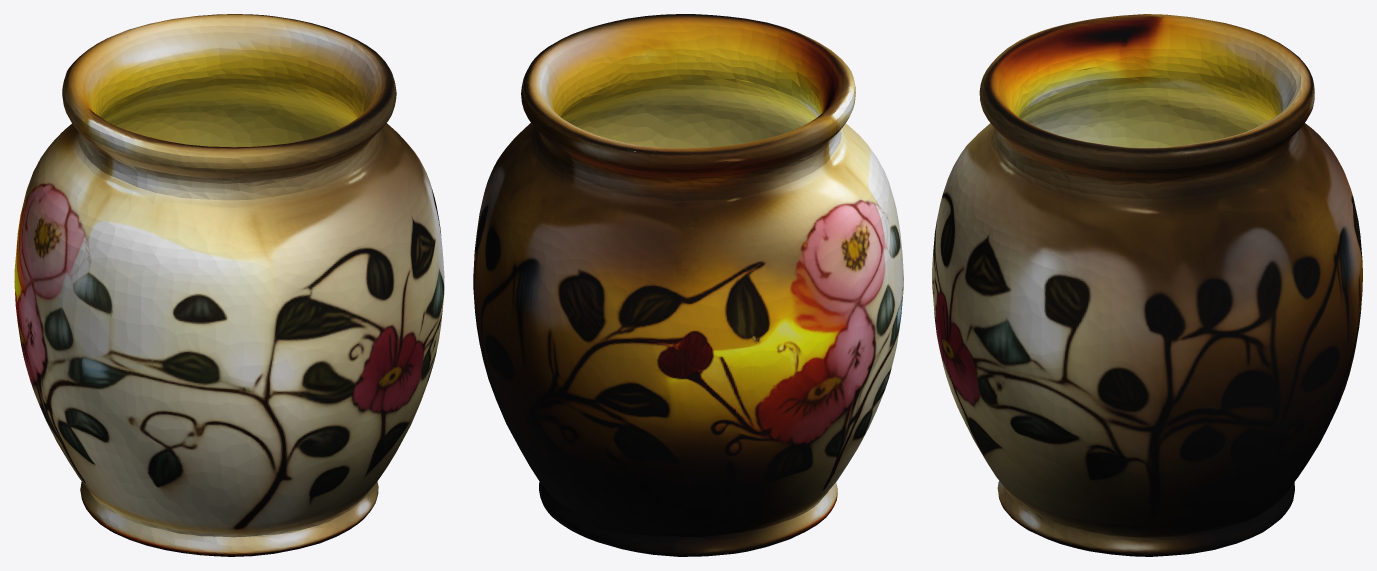
Rendered from ceramic-candle-jar-vintage.jpeg.glb.
3 views of the same model, side by side, from view 1: azimuth 30°, elevation 25°; view 2: azimuth 150°, elevation 25°; view 3: azimuth 270°, elevation 25° (orthographic).
Visible parts, largest first — view 1: world; view 2: world; view 3: world.
Part boxes in pixels (x1,y1,x2,y2): world: [14, 14, 444, 556]; world: [473, 14, 903, 556]; world: [932, 14, 1362, 556].
Size of the model in its own units: 0.9408 by 0.9997 by 0.9407.
1 material, 1 textured.
